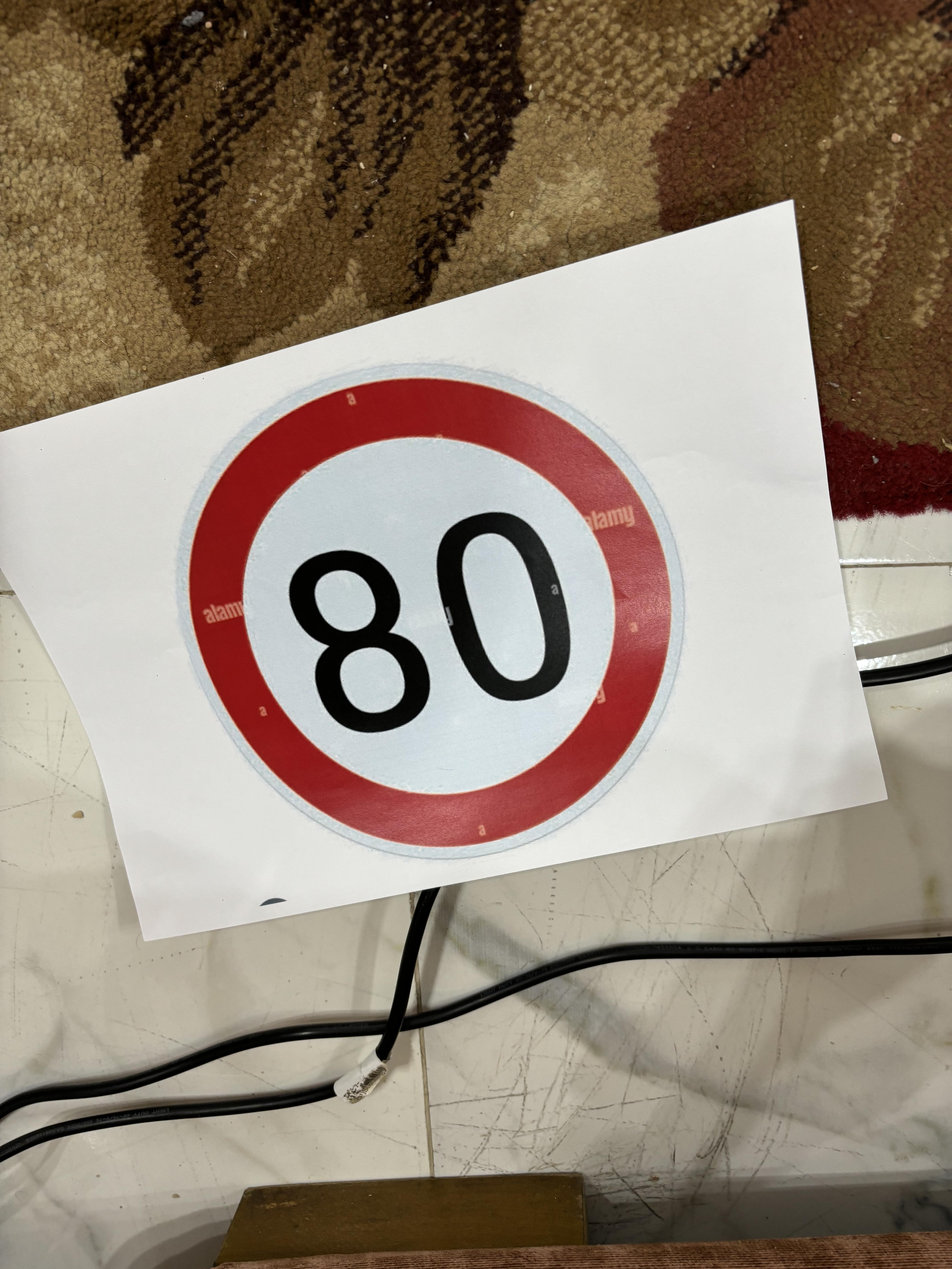80-Speed: (178, 363, 692, 869)
